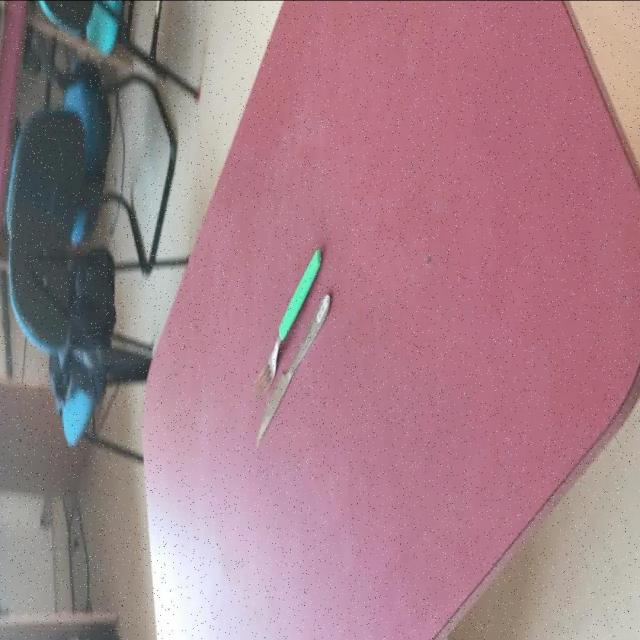Fork: (252, 245, 322, 395)
Knife: (251, 245, 332, 446), (254, 291, 332, 446)
